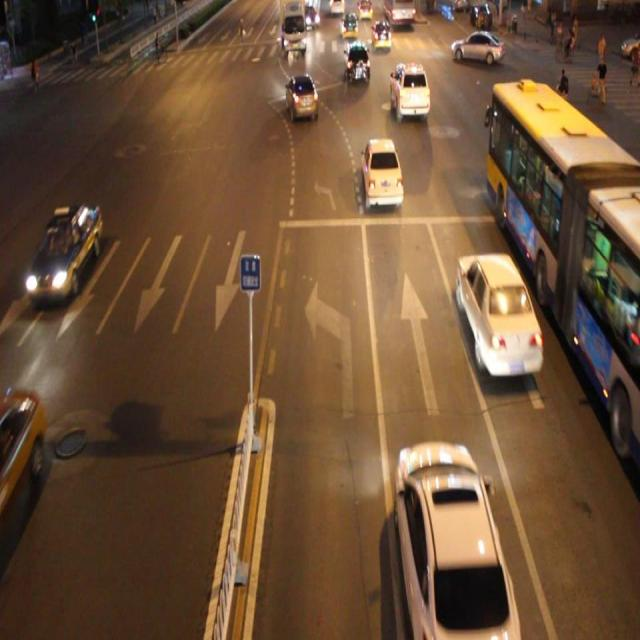car: (393, 441, 518, 640), (457, 252, 541, 375), (26, 202, 101, 304), (1, 386, 46, 534), (361, 138, 403, 208), (389, 60, 429, 120), (286, 72, 318, 122), (343, 41, 370, 85)
van: (482, 83, 640, 474)
